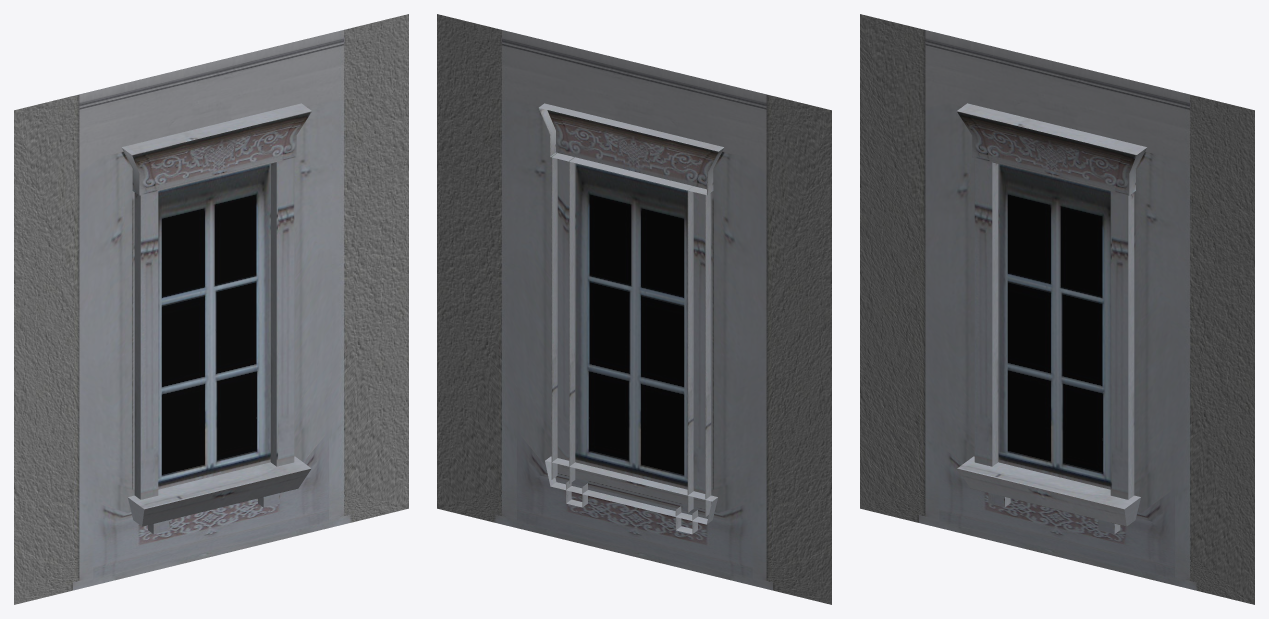
Rendered from win_small.obj.
The picture shows the model from 3 angles, left to right: view 1: azimuth 30°, elevation 25°; view 2: azimuth 150°, elevation 25°; view 3: azimuth 330°, elevation 25°; orthographic projection.
Parts seen in each view (by area): view 1: polySurface136; view 2: polySurface136; view 3: polySurface136.
Part boxes in pixels (bbox=[...]): polySurface136: bbox=[14, 14, 408, 604]; polySurface136: bbox=[437, 14, 831, 604]; polySurface136: bbox=[860, 14, 1254, 604].
Bounding box in the file's own units: 1 × 1.2 × 0.0995.
Materials: 1 (1 with a texture image).
